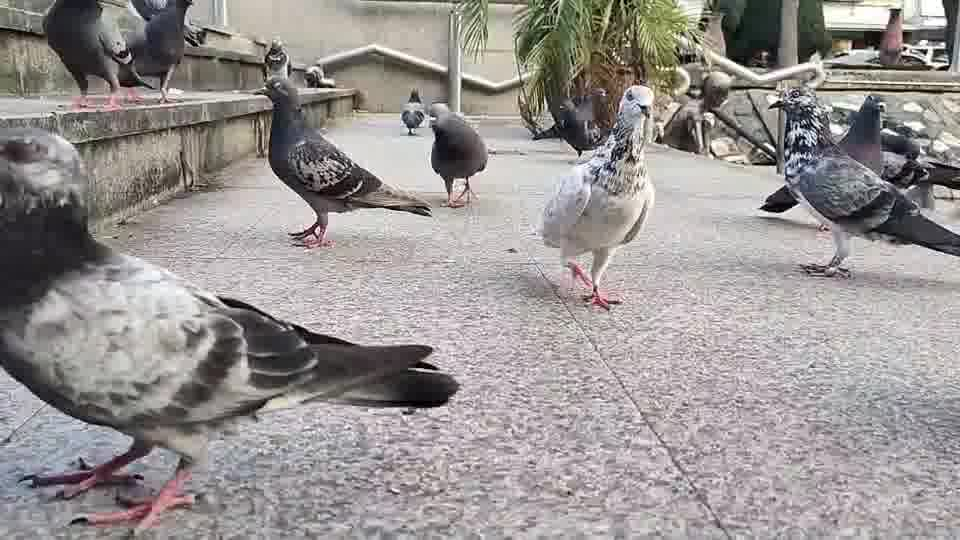Pigeon: (0, 125, 461, 532), (758, 86, 958, 279), (250, 75, 432, 249), (528, 83, 656, 311), (42, 0, 154, 111), (125, 0, 198, 104), (426, 102, 490, 208), (531, 87, 613, 158), (262, 38, 336, 89), (399, 87, 426, 135)
